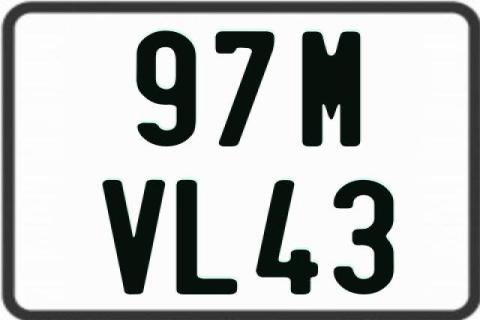0: (254, 179, 321, 297), (333, 180, 397, 294), (213, 29, 273, 150), (135, 30, 195, 146)
L: (174, 180, 241, 299)
M: (301, 30, 359, 146)
V: (102, 180, 167, 298)
